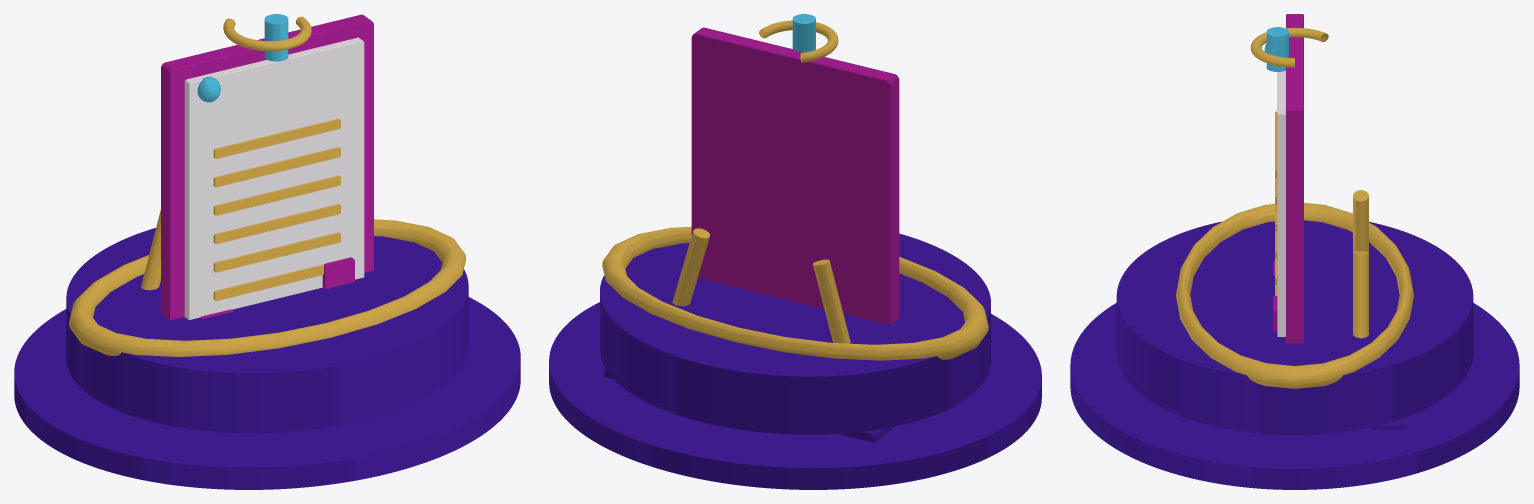
Rendered from 0601_考古图鉴_考古发掘工具.glb.
The picture shows the model from 3 angles, left to right: view 1: azimuth 30°, elevation 25°; view 2: azimuth 150°, elevation 25°; view 3: azimuth 270°, elevation 25°; orthographic projection. The views are drawn at different scales.
Visible parts, largest first — view 1: card_0601; view 2: card_0601; view 3: card_0601.
Boxes of the visible parts, box(x1,y1,x2,y2) form: card_0601: box(14, 14, 520, 489); card_0601: box(549, 14, 1041, 489); card_0601: box(1070, 14, 1519, 489).
Size of the model in its own units: 1.25 by 1 by 1.15.
